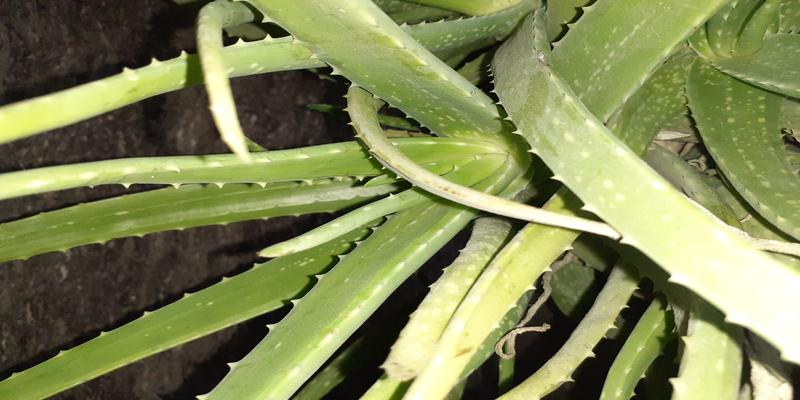Aloevera: (266, 23, 782, 370)
